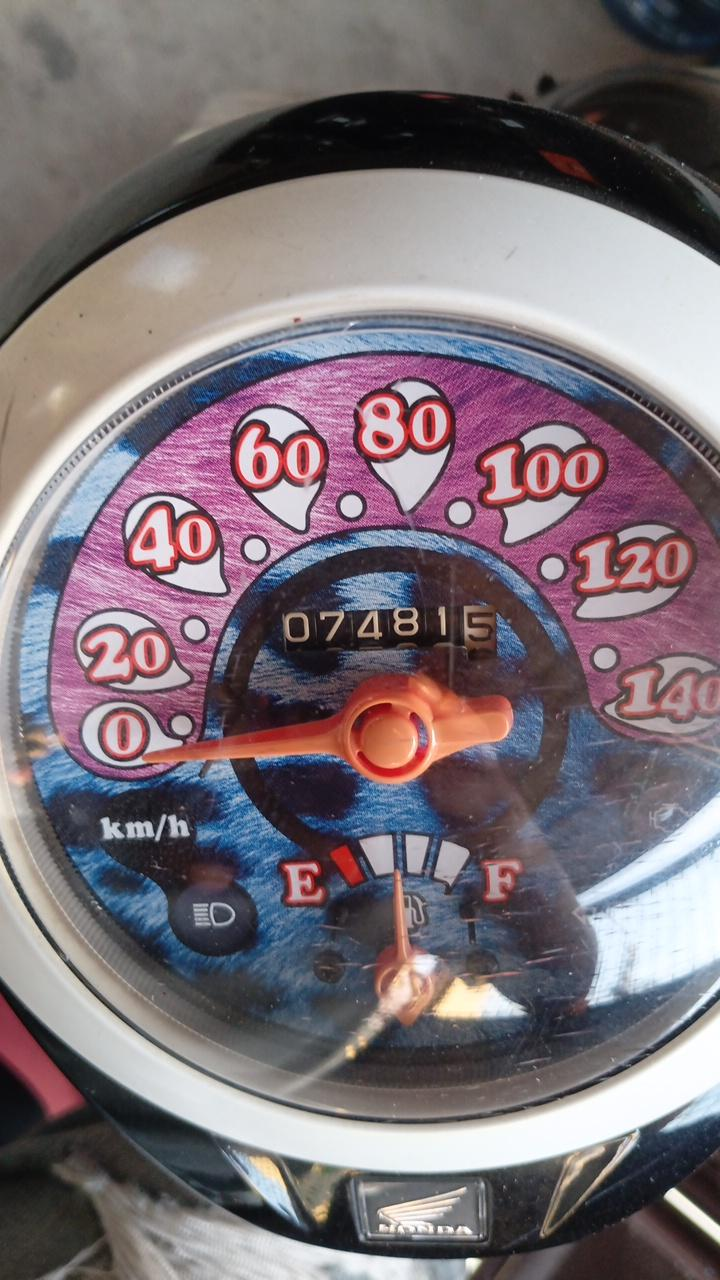0: (282, 612, 310, 644)
1: (436, 606, 450, 639)
4: (355, 610, 383, 642)
5: (466, 609, 495, 645)
7: (319, 611, 345, 643)
8: (393, 608, 419, 638)
odometer: (280, 605, 500, 662)
